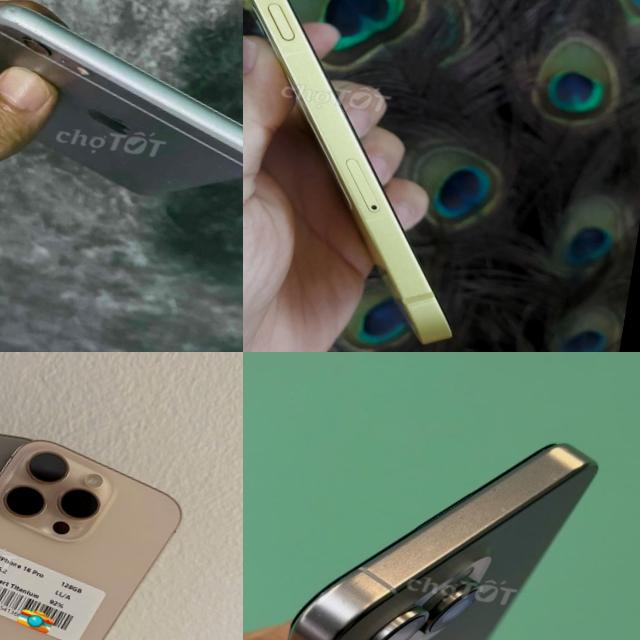gen_14: (243, 0, 543, 352)
gen_15: (243, 388, 613, 640)
gen_16: (0, 415, 197, 640)
gen_6: (0, 5, 243, 194)
scratch: (0, 0, 63, 43)
